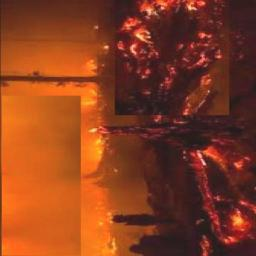Heavy smoke: (3, 2, 89, 250)
Medium fire: (92, 1, 253, 244)
